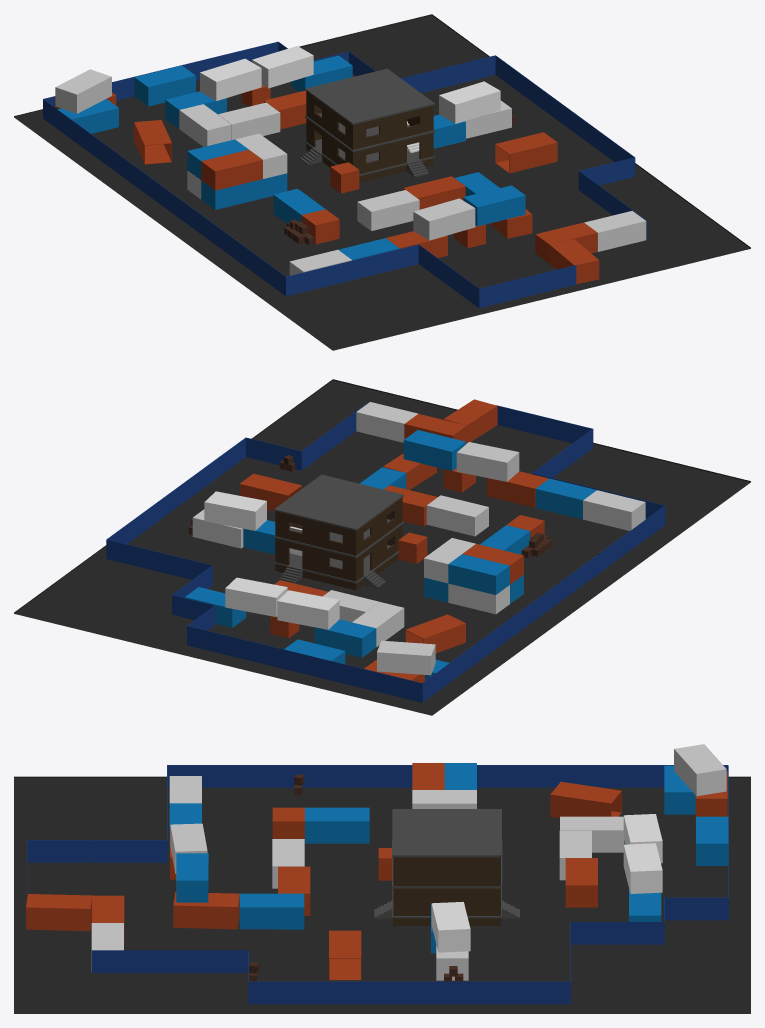
The model's file is map.gltf.
3 renders of one model, top to bottom at view 1: azimuth 30°, elevation 25°; view 2: azimuth 150°, elevation 25°; view 3: azimuth 270°, elevation 25°, orthographic. The views are drawn at different scales.
Visible parts, largest first — view 1: Terrain, MaisonMur, Plane.009, MaisonToit, Plane.008, Plane.011, Container.005, Container.019, Container.002, Container.035, Container.013, Container.007 (+34 smaller); view 2: Terrain, MaisonMur, Plane.009, Plane.015, MaisonToit, Plane.011, Plane.013, Container.019, Container.002, Container.007, Container.035, Container.022 (+32 smaller); view 3: Terrain, Plane.009, Plane.011, MaisonMur, MaisonToit, Plane.010, Container.003, Container.009, Container.025, Container.028, Plane.014, Container.016 (+32 smaller).
Part boxes in pixels (box(x1,y1,x2,y2)): Terrain: box(14, 14, 750, 350); MaisonMur: box(306, 91, 433, 182); Plane.009: box(43, 99, 286, 295); MaisonToit: box(305, 68, 434, 124); Plane.008: box(286, 244, 418, 296); Plane.011: box(495, 55, 635, 176); Container.005: box(495, 132, 557, 173); Container.019: box(413, 198, 475, 240); Container.002: box(439, 81, 500, 123); Container.035: box(200, 58, 261, 100); Container.013: box(201, 149, 262, 190); Container.007: box(357, 190, 419, 230); Terrain: box(14, 379, 750, 715); MaisonMur: box(275, 497, 402, 590); Plane.009: box(422, 505, 665, 702); Plane.015: box(187, 626, 422, 702); MaisonToit: box(274, 474, 403, 530); Plane.011: box(106, 437, 245, 558); Plane.013: box(106, 539, 211, 579); Container.019: box(456, 442, 519, 481); Container.002: box(204, 491, 266, 530); Container.007: box(426, 495, 488, 536); Container.035: box(277, 590, 339, 629); Container.022: box(583, 490, 645, 530); Terrain: box(14, 776, 750, 1013); Plane.009: box(167, 765, 727, 787); Plane.011: box(248, 981, 570, 1004); MaisonMur: box(393, 857, 500, 925); MaisonToit: box(392, 809, 501, 857); Plane.010: box(92, 950, 248, 972); Container.003: box(239, 893, 304, 929); Container.009: box(305, 807, 369, 843); Container.025: box(26, 894, 92, 931); Container.028: box(550, 781, 621, 818); Plane.014: box(571, 922, 663, 944); Container.016: box(173, 892, 239, 929).
Size of the model in its own units: 51.8 by 7.43 by 68.42.
